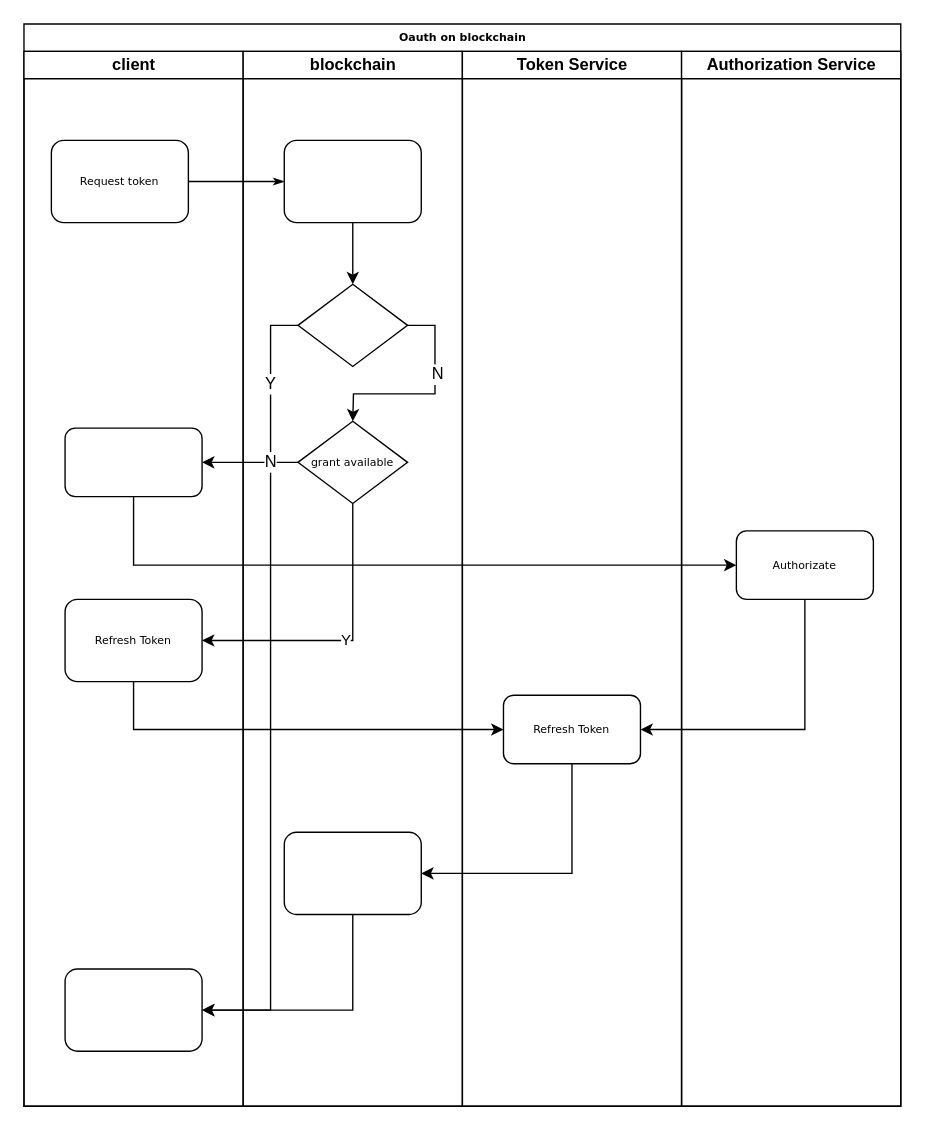
The diagram is 925 pixels wide and 1130 high, and some of its shapes have lost their labels. The centre of each missing label's shape, as x and y in pixels:
"Authorization" belongs at point 133,462.
"get token" belongs at point 133,1009.
"Grant status" belongs at point 352,181.
"Refresh Grant Status" belongs at point 352,872.
"token available" belongs at point 352,324.
